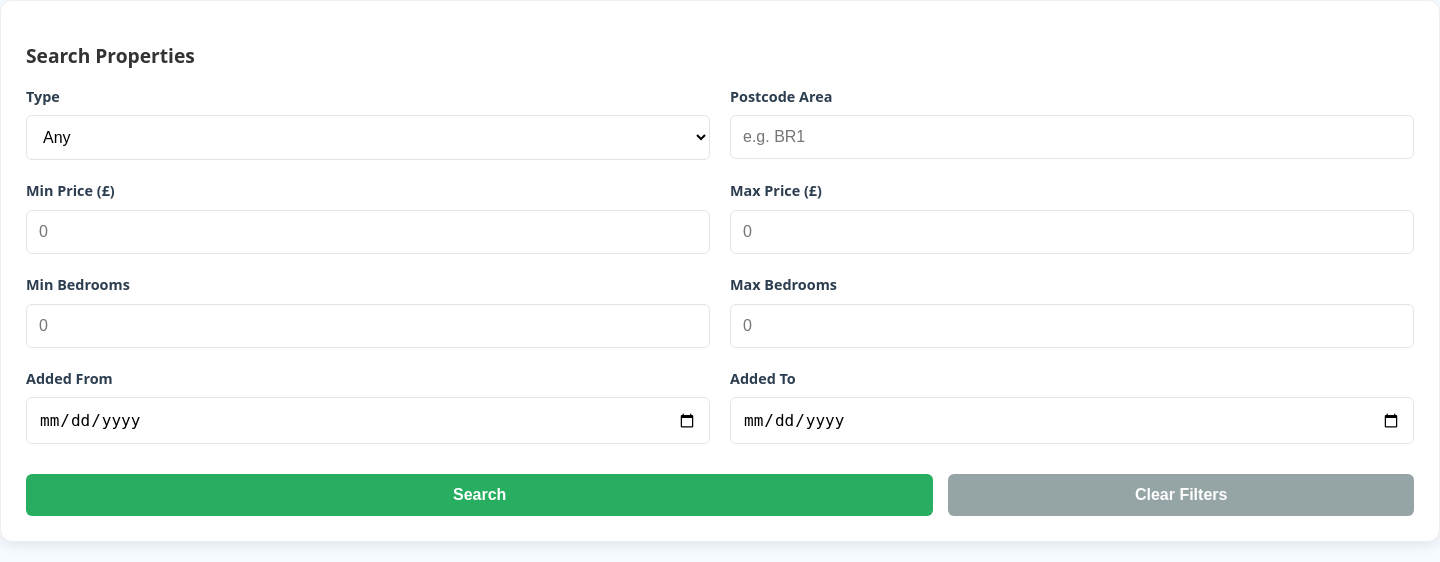
Test case: SearchBox Component › clears inputs when Clear Filters button is clicked
Note: Type something
Type "SE15" into the field with placeholder "e.g. BR1" at (1072, 137), box [730,115,1414,159]
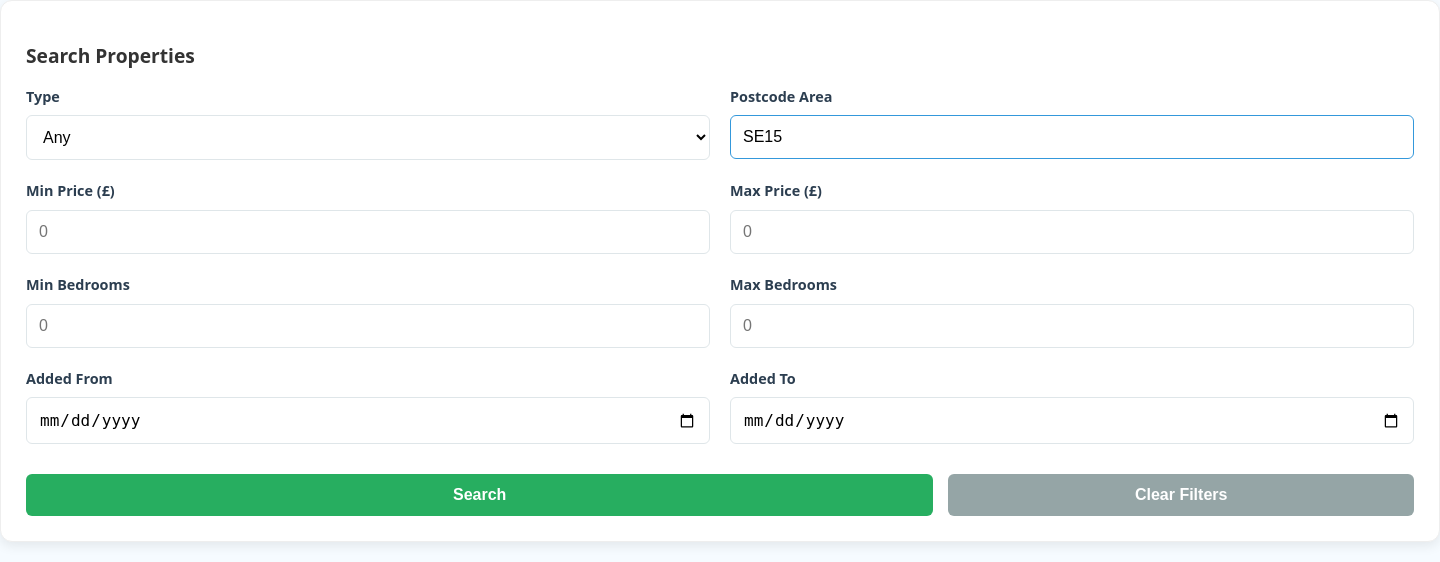
Note: Click Clear
Click the button "Clear Filters" at (1181, 495), box [948,474,1414,516]
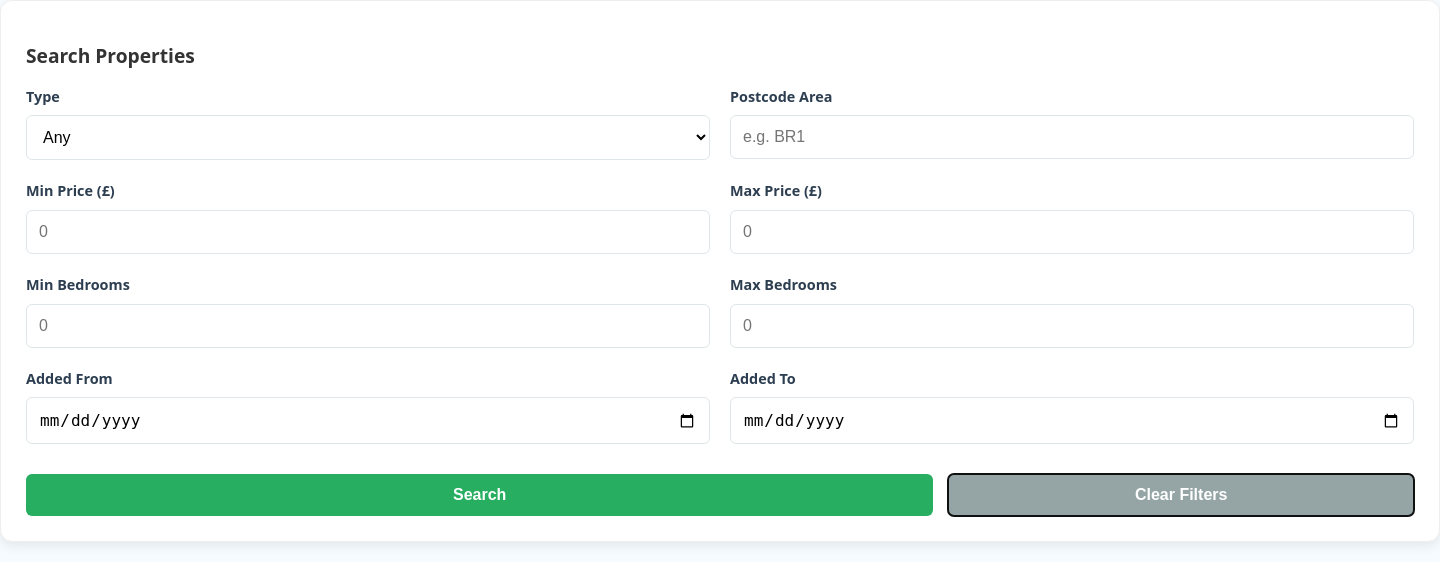
expect the field with placeholder "e.g. BR1" is empty: met, box [730,115,1414,159]
